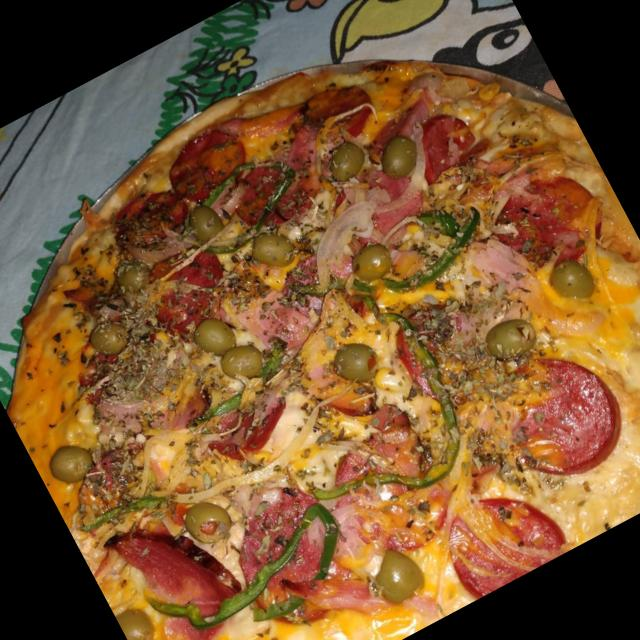pepperoni: (461, 326, 640, 508), (316, 402, 466, 572), (215, 476, 366, 638), (477, 150, 620, 292), (424, 468, 566, 604), (382, 282, 502, 408), (322, 158, 433, 266), (136, 242, 230, 337), (104, 178, 200, 264), (158, 117, 249, 206), (198, 387, 292, 469), (298, 72, 383, 152), (228, 158, 310, 236), (408, 106, 486, 182)
peppers: (242, 328, 498, 552), (134, 492, 367, 640), (342, 186, 500, 312), (68, 448, 216, 556)
pizza: (5, 60, 640, 640)
